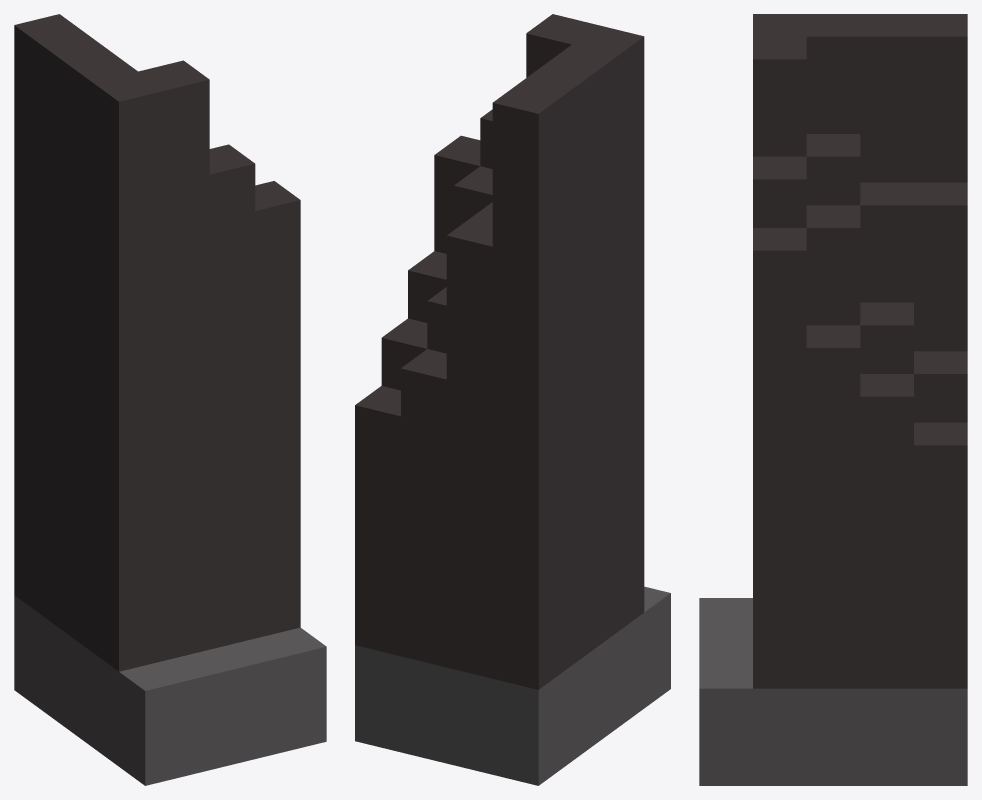
The model's file is gorilla__arm_r.glb.
The picture shows the model from 3 angles, left to right: view 1: azimuth 30°, elevation 25°; view 2: azimuth 150°, elevation 25°; view 3: azimuth 270°, elevation 25°; orthographic projection. The views are drawn at different scales.
Parts seen in each view (by area): view 1: gorilla__arm_r; view 2: gorilla__arm_r; view 3: gorilla__arm_r.
Part boxes in pixels (left/top/right/bottom): gorilla__arm_r: left=14, top=14, right=326, bottom=785; gorilla__arm_r: left=355, top=14, right=670, bottom=785; gorilla__arm_r: left=699, top=14, right=967, bottom=785.
Bounding box in the file's own units: 0.4 × 1.4 × 0.5.
1 material, 1 textured.
